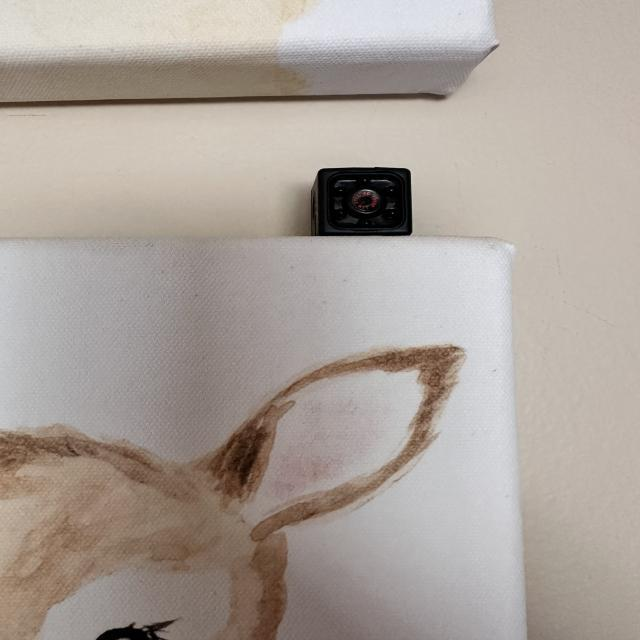hidden camera: (349, 189, 381, 214)
